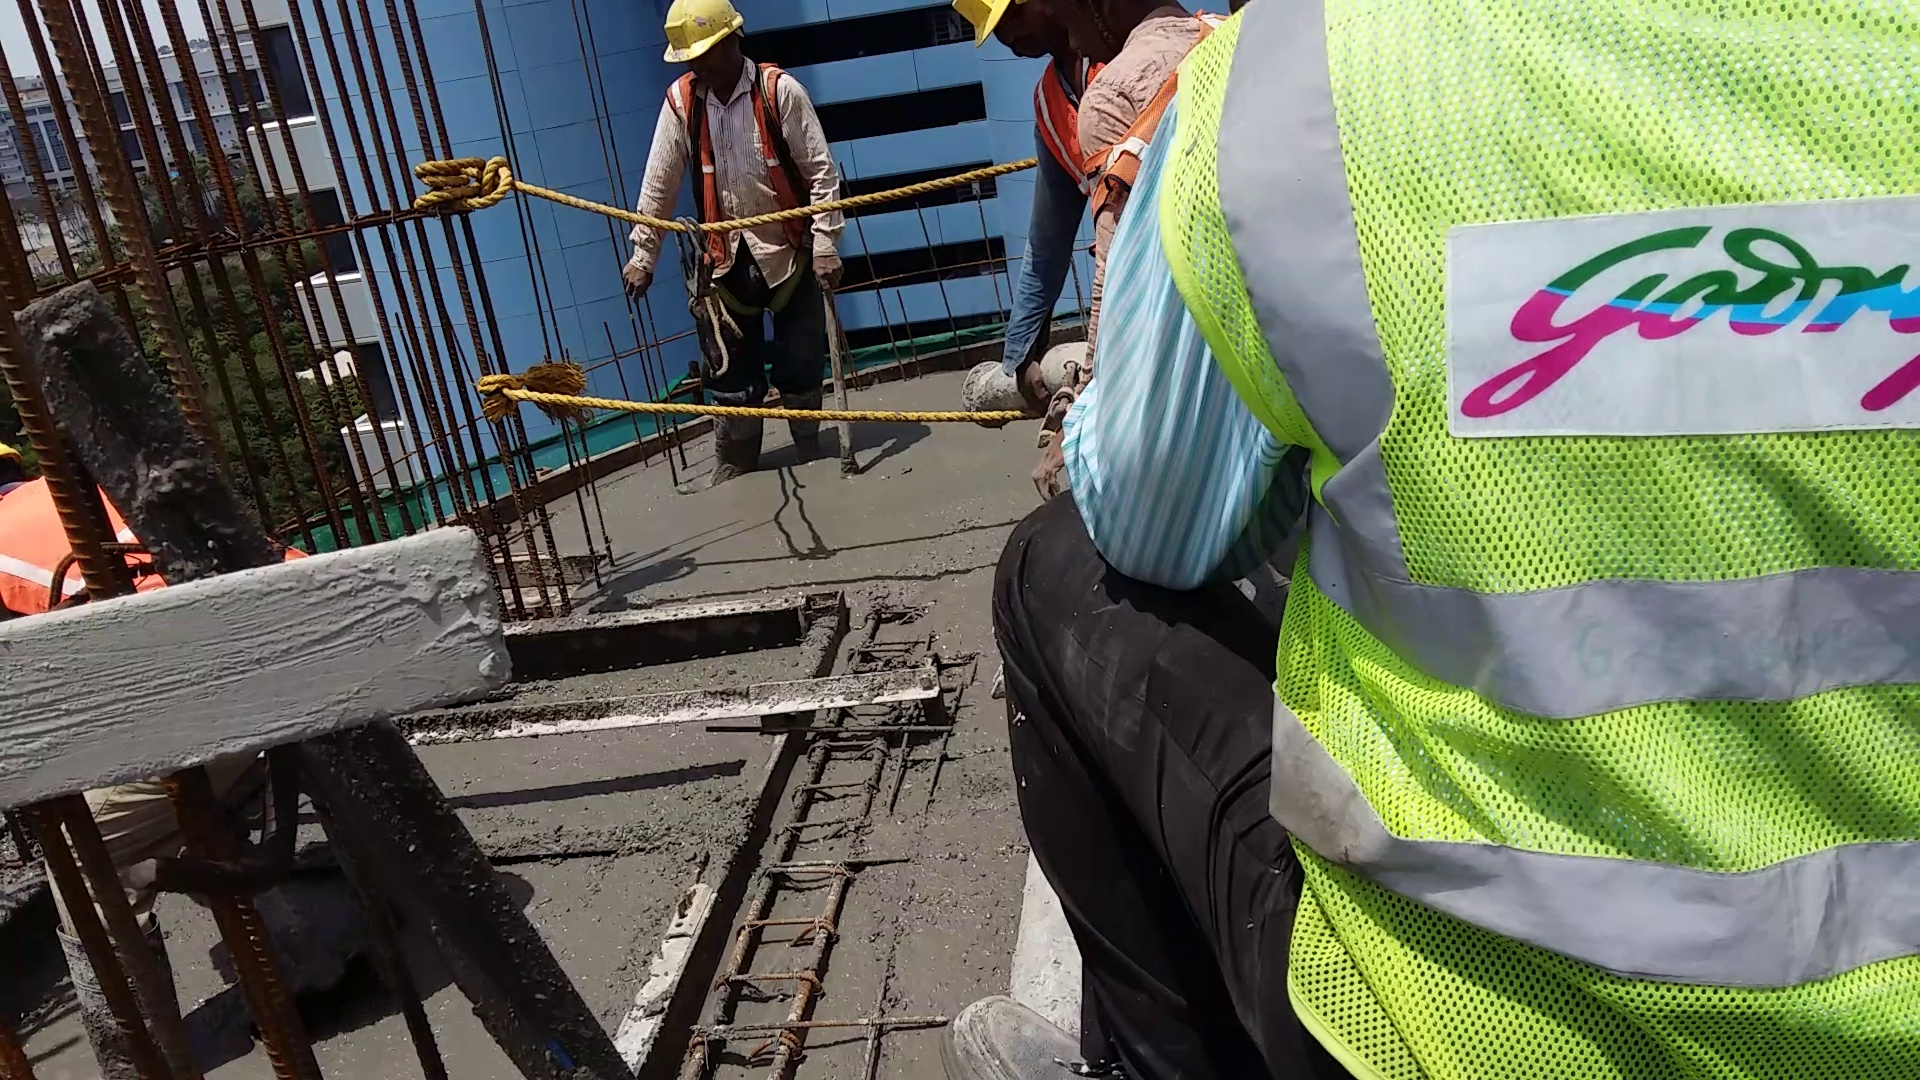SAFE: (667, 3, 804, 277)
